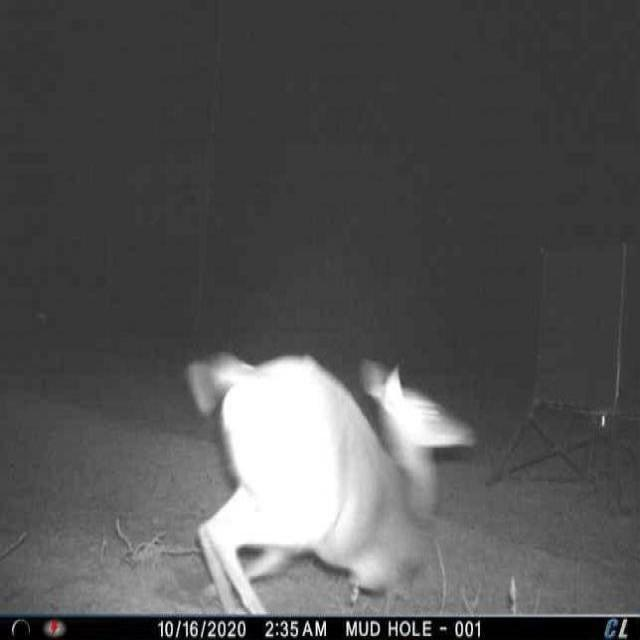deer: (183, 340, 486, 621)
